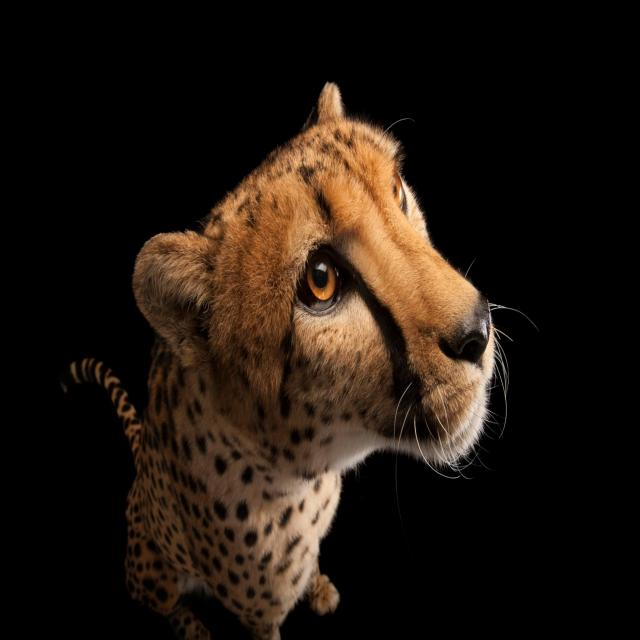Cheetah: (71, 72, 519, 640)
